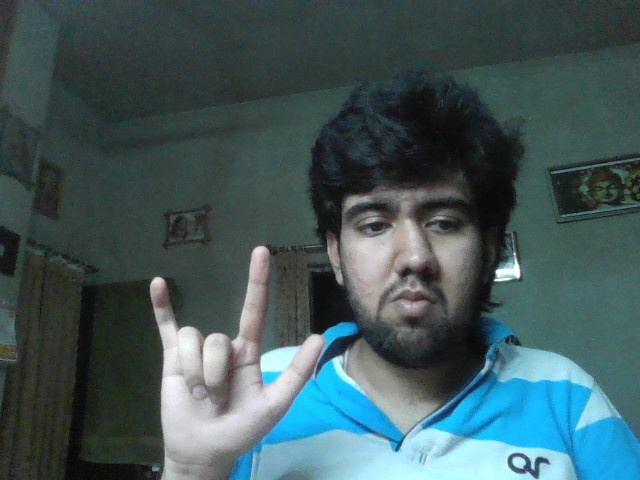ILoveYou: (149, 245, 324, 468)
